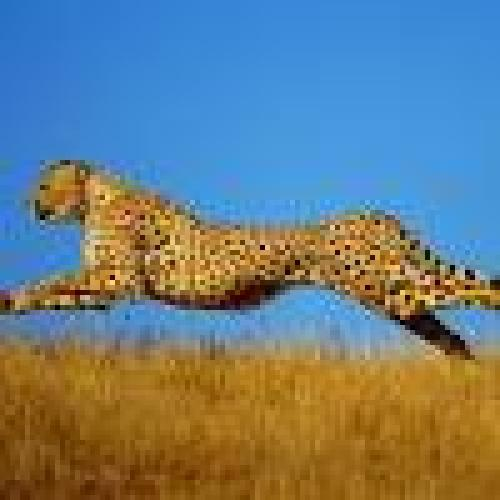cheetah-endangered: (8, 167, 498, 361)
